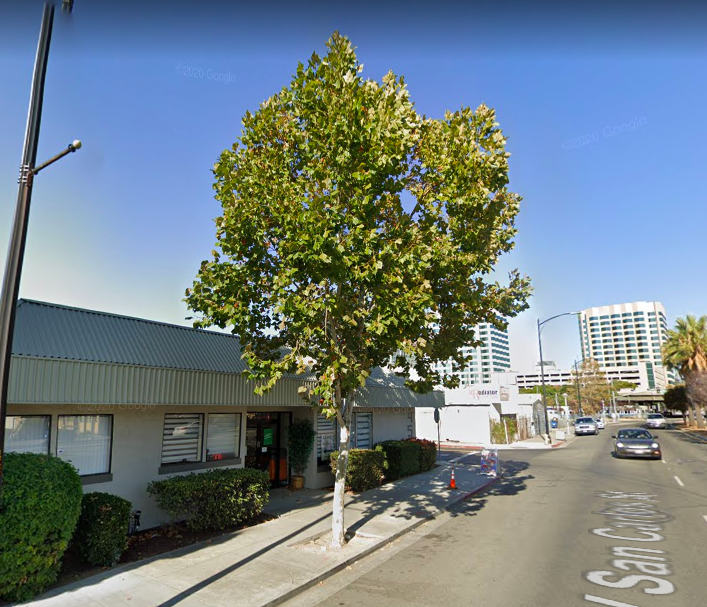tree: (182, 29, 537, 547)
